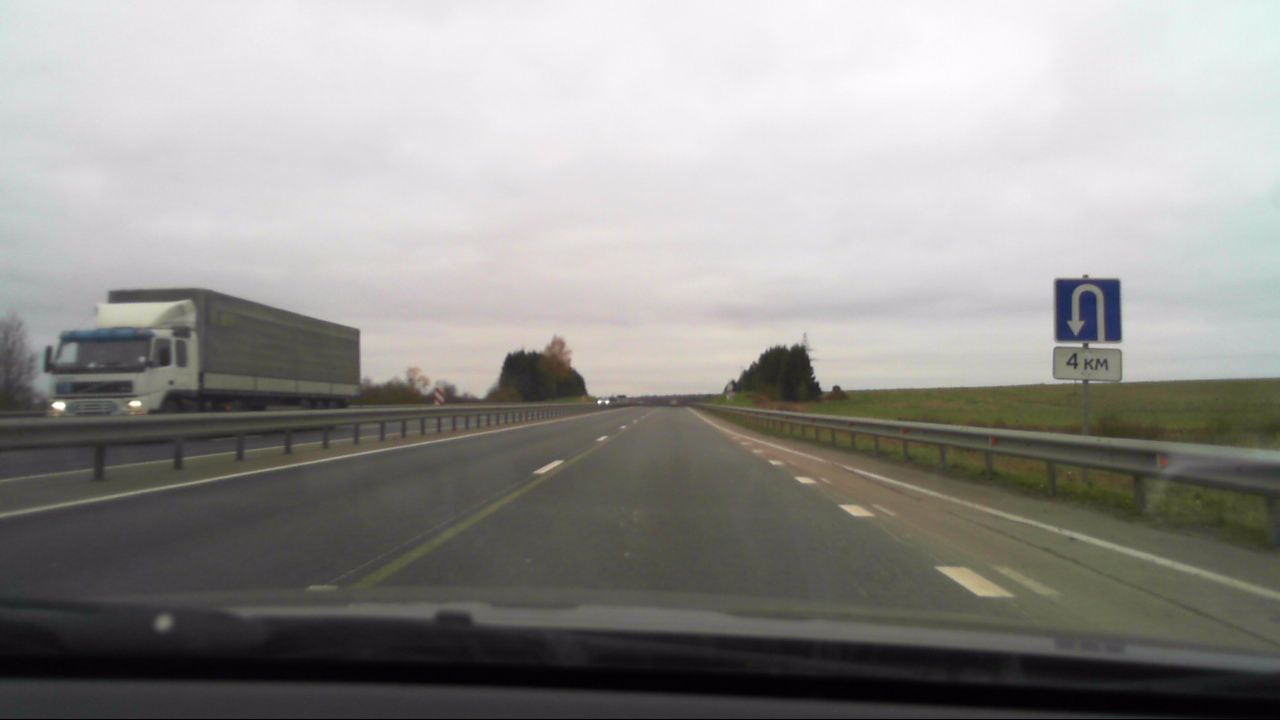U-turn: (1055, 279, 1121, 342)
